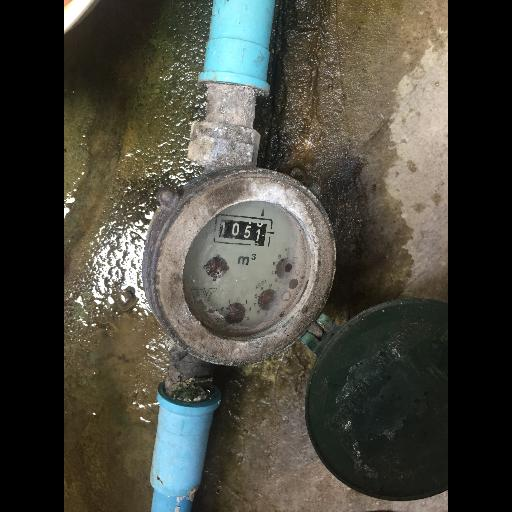0: (230, 221, 242, 240)
1: (254, 223, 264, 246), (218, 220, 229, 239)
5: (242, 221, 254, 241)
border_water_meter_number: (213, 214, 276, 249)
